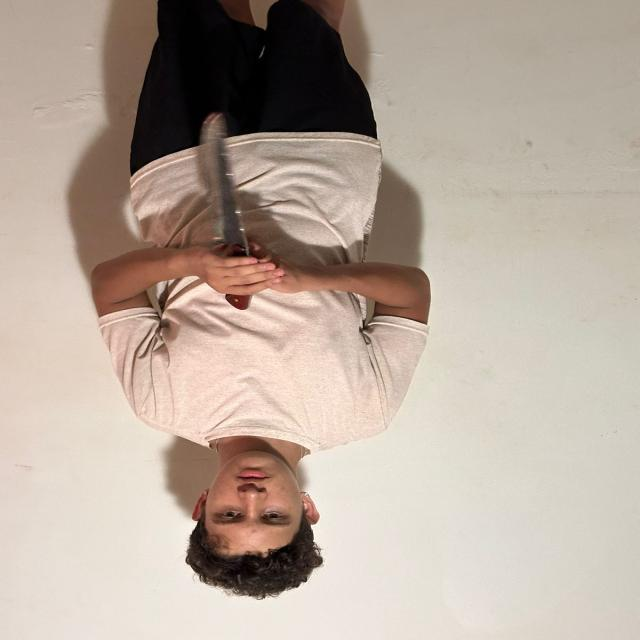knife: (198, 111, 246, 244)
